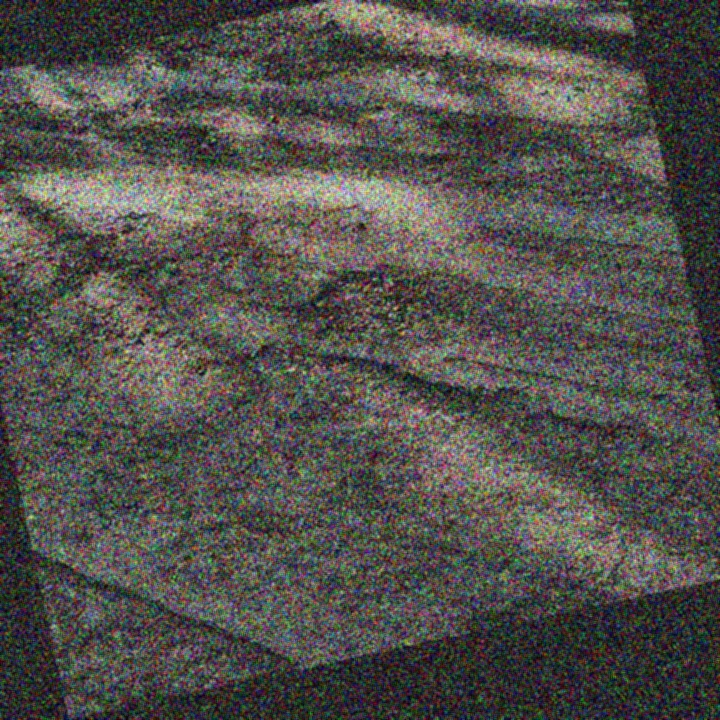pothole: (288, 250, 437, 349)
